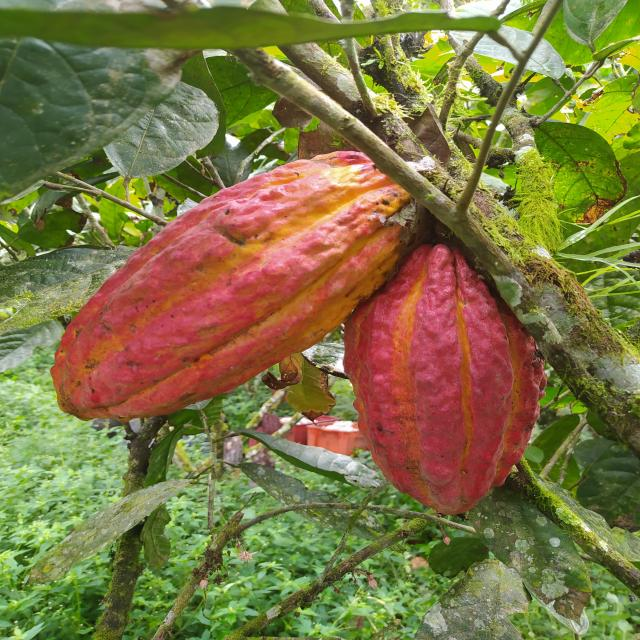Sana: (48, 146, 430, 422), (344, 236, 548, 518)
